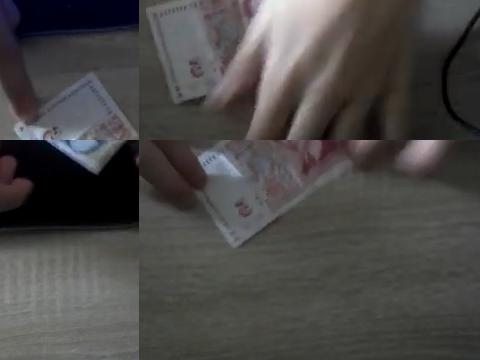5leva: (194, 140, 354, 249), (145, 0, 264, 105), (12, 73, 139, 140)
